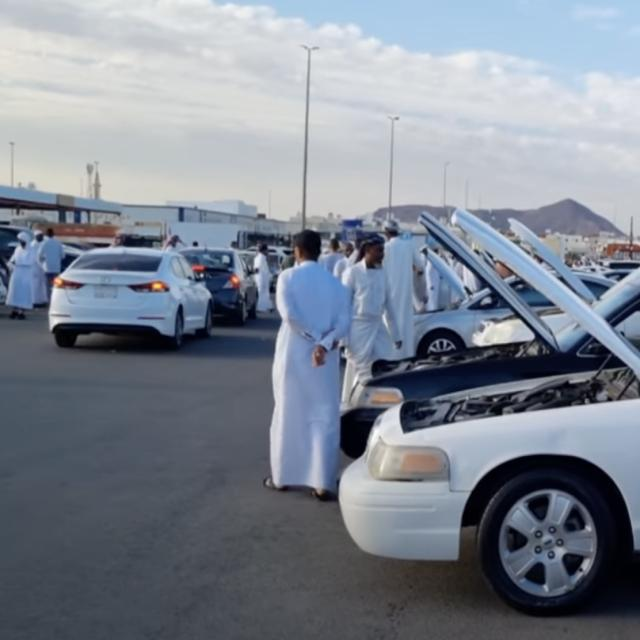license_plate: (94, 285, 118, 300)
